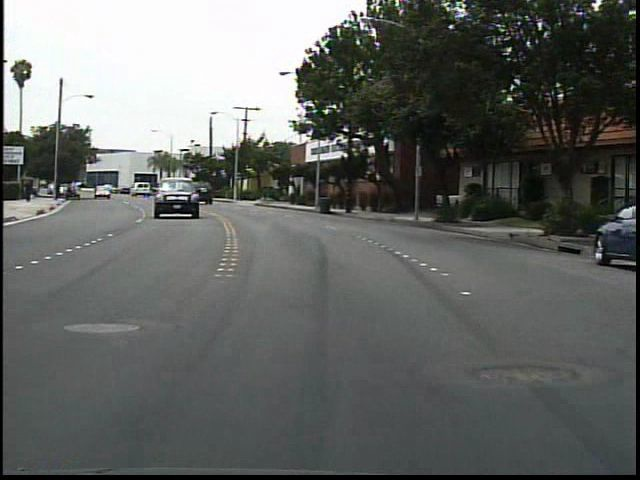person: (21, 182, 34, 204)
